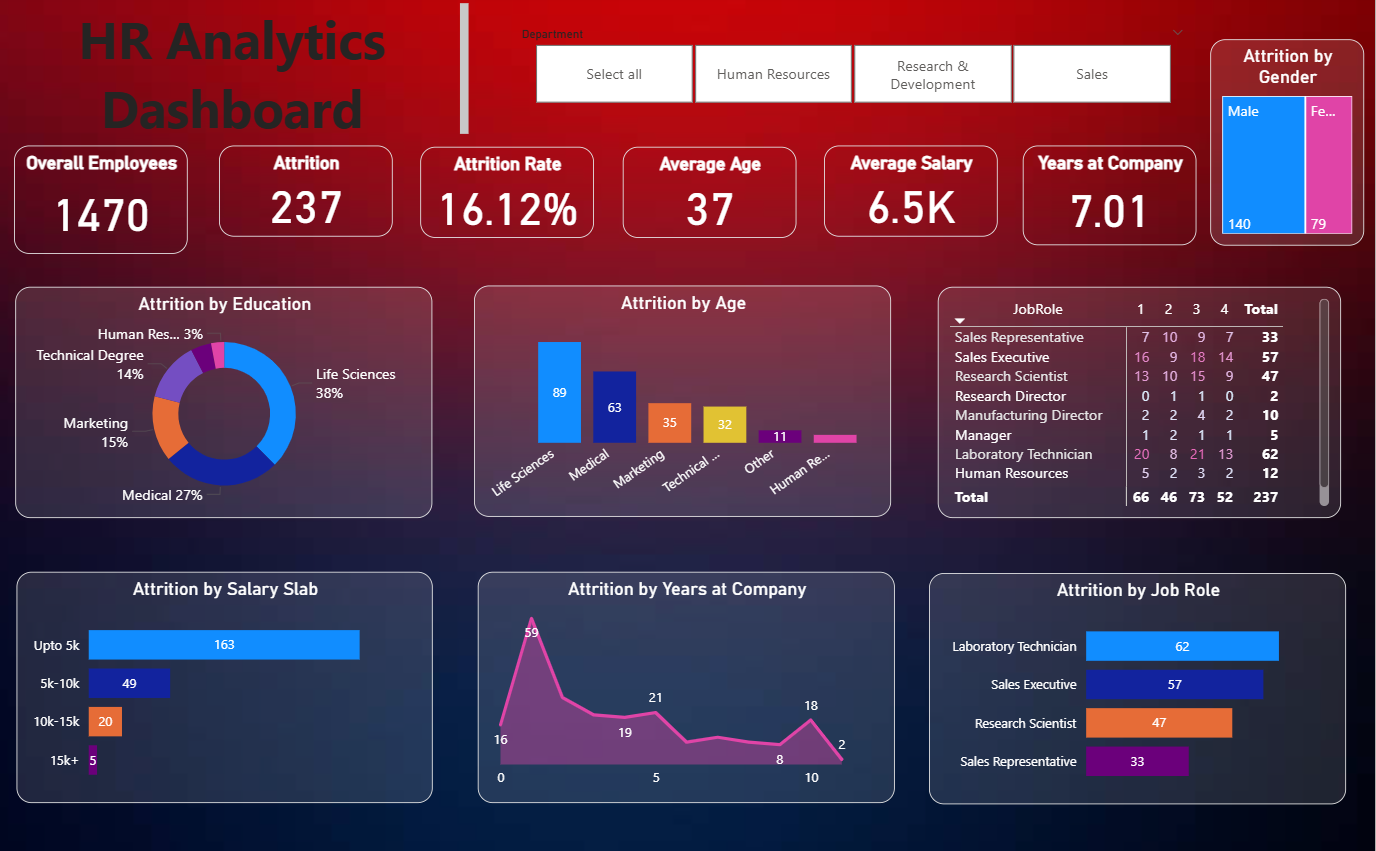

Layout of this report page (visuals, bound fields, positions):
{"tool":"powerbi","page":{"name":"Page 1","canvas":[1280,800],"ordinal":0},"visuals":[{"type":"card","title":"Overall Employees","fields":{"Values":["CountNonNull(HR_Analytics.EmpID)"]},"box":[14,137.2,161.6,101.2],"z":0},{"type":"card","title":"Attrition","fields":{"Values":["Sum(HR_Analytics.AttritionCount)"]},"box":[204.7,137.2,161.6,84.9],"z":1000},{"type":"card","title":"Attrition Rate","fields":{"Values":["HR_Analytics.AttritionRate"]},"box":[391.9,138.4,161.6,84.9],"z":2000},{"type":"card","title":"Average Age","fields":{"Values":["Avg(HR_Analytics.Age)"]},"box":[580.2,138.4,161.6,84.9],"z":3000},{"type":"card","title":"Average Salary","fields":{"Values":["Avg(HR_Analytics.MonthlyIncome)"]},"box":[767.4,137.2,161.6,84.9],"z":4000},{"type":"card","title":"Years at Company","fields":{"Values":["Avg(HR_Analytics.YearsAtCompany)"]},"box":[952.3,137.2,161.6,93],"z":5000},{"type":"donutChart","title":"Attrition by Education","fields":{"Category":["HR_Analytics.EducationField"],"Y":["Sum(HR_Analytics.AttritionCount)"]},"box":[15.1,268.6,388.4,215.1],"z":6000},{"type":"columnChart","title":"Attrition by Age","fields":{"Category":["HR_Analytics.EducationField"],"Y":["Sum(HR_Analytics.AttritionCount)"],"Series":["HR_Analytics.EducationField"]},"box":[441.9,267.4,388.4,215.1],"z":7000},{"type":"pivotTable","fields":{"Rows":["HR_Analytics.JobRole"],"Columns":["HR_Analytics.JobSatisfaction"],"Values":["Sum(HR_Analytics.AttritionCount)"]},"box":[873.3,268.6,375.6,215.1],"z":8000},{"type":"barChart","title":"Attrition by Salary Slab","fields":{"Category":["HR_Analytics.SalarySlab"],"Y":["Sum(HR_Analytics.AttritionCount)"],"Series":["HR_Analytics.SalarySlab"]},"box":[16.3,533.7,387.2,215.1],"z":9000},{"type":"barChart","title":"Attrition by Job Role","fields":{"Category":["HR_Analytics.JobRole"],"Y":["Sum(HR_Analytics.AttritionCount)"],"Series":["HR_Analytics.JobRole"]},"box":[865.1,534.9,388.4,215.1],"z":10000},{"type":"areaChart","title":"Attrition by Years at Company","fields":{"Category":["HR_Analytics.YearsAtCompany"],"Y":["Sum(HR_Analytics.AttritionCount)"]},"box":[445.4,533.7,388.4,215.1],"z":11000},{"type":"treemap","title":"Attrition by Gender","fields":{"Group":["HR_Analytics.Gender"],"Values":["Sum(HR_Analytics.AttritionCount)"]},"box":[1126.7,38.4,143,191.9],"z":12000},{"type":"slicer","fields":{"Values":["HR_Analytics.Department"]},"box":[473.3,22.1,640.7,82.6],"z":13000},{"type":"textbox","box":[0,0,441.9,134.9],"z":14000}]}

Visuals, with their boxes in screenshot pixels (x1, y1, x2, y2), scaled from the page's 1280x800 canvas onto the 1376x851 screenshot:
"Overall Employees" card: 15 146 189 254
"Attrition" card: 220 146 394 236
"Attrition Rate" card: 421 147 595 238
"Average Age" card: 624 147 797 238
"Average Salary" card: 825 146 999 236
"Years at Company" card: 1024 146 1197 245
"Attrition by Education" donutChart: 16 286 434 515
"Attrition by Age" columnChart: 475 284 893 513
pivotTable - HR_Analytics.JobRole x HR_Analytics.JobSatisfaction: 939 286 1343 515
"Attrition by Salary Slab" barChart: 18 568 434 797
"Attrition by Job Role" barChart: 930 569 1348 798
"Attrition by Years at Company" areaChart: 479 568 896 797
"Attrition by Gender" treemap: 1211 41 1365 245
slicer - HR_Analytics.Department: 509 24 1198 111
textbox: 0 0 475 143
